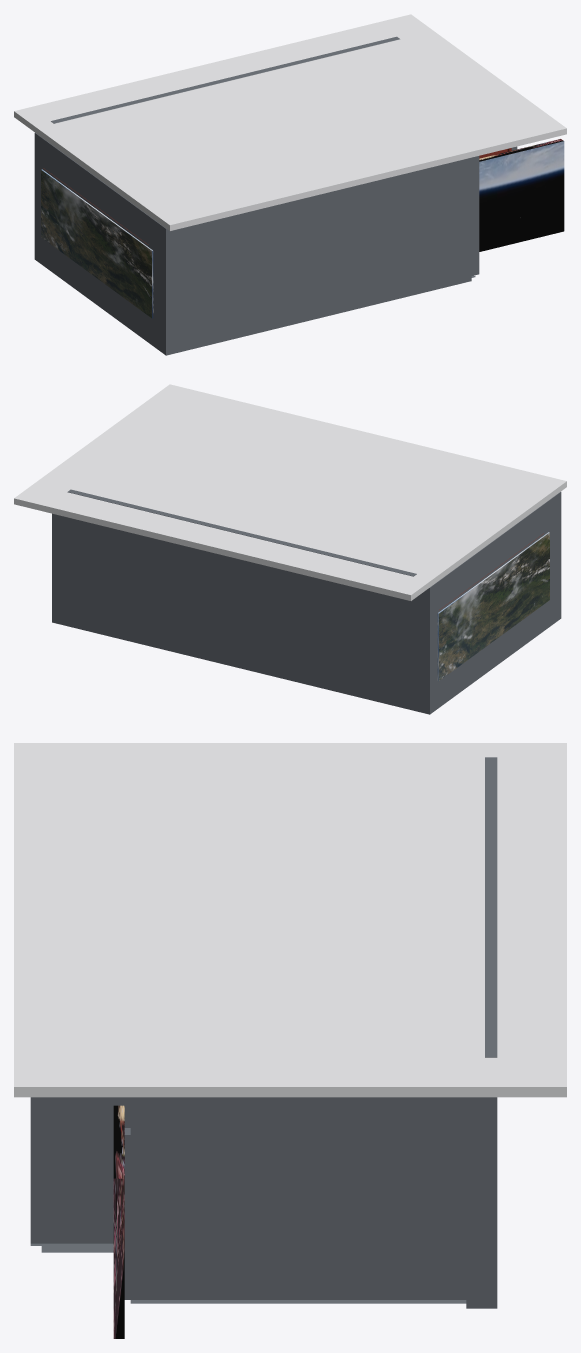
File: museo.glb
3 renders of one model, top to bottom at view 1: azimuth 30°, elevation 25°; view 2: azimuth 150°, elevation 25°; view 3: azimuth 270°, elevation 25°, orthographic. The views are drawn at different scales.
Visible parts, largest first — view 1: Cubo.001, Cubo, Cube.001, Cube.002; view 2: Cubo.001, Cubo, Cube.002; view 3: Cubo.001, Cubo, Cube.001.
Boxes of the visible parts, x1,y1,x2,y2 form: Cubo.001: (14,14,566,230); Cubo: (34,36,517,355); Cube.001: (479,139,564,251); Cube.002: (41,169,153,318); Cubo.001: (14,384,566,600); Cubo: (52,489,561,714); Cube.002: (437,532,549,681); Cubo.001: (14,743,566,1097); Cubo: (30,757,497,1308); Cube.001: (113,1105,124,1338).
Size of the model in its own units: 15.98 by 4.85 by 10.21.
9 materials, 2 textured.
